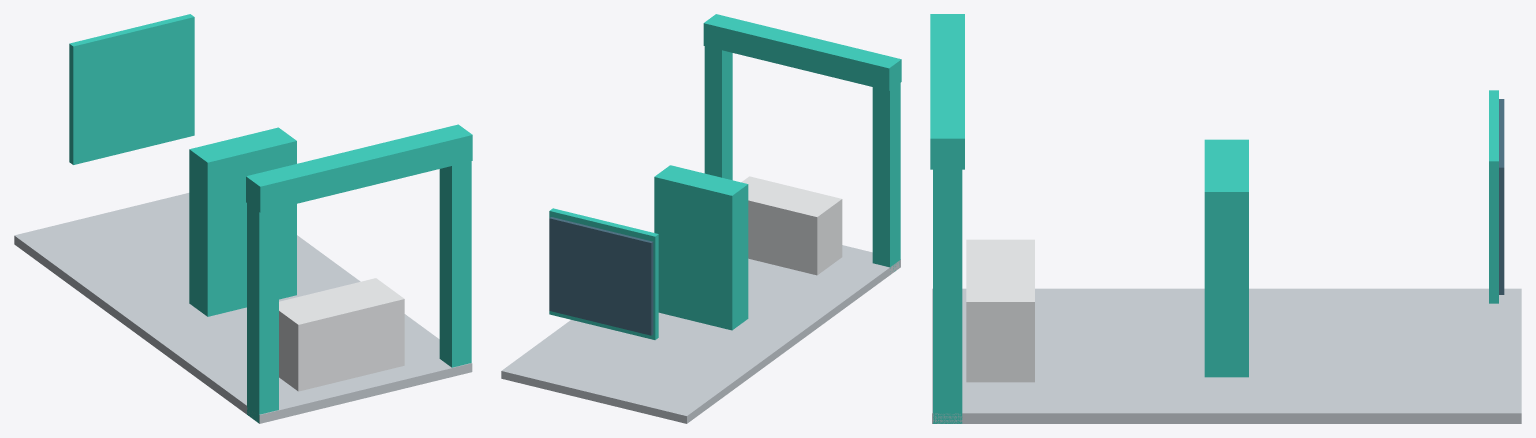
The picture shows the model from 3 angles, left to right: view 1: azimuth 30°, elevation 25°; view 2: azimuth 150°, elevation 25°; view 3: azimuth 270°, elevation 25°; orthographic projection. The views are drawn at different scales.
Parts seen in each view (by area): view 1: Exhibition Booth Concept; view 2: Exhibition Booth Concept; view 3: Exhibition Booth Concept.
Boxes of the visible parts, x1,y1,x2,y2 form: Exhibition Booth Concept: [14, 14, 472, 423]; Exhibition Booth Concept: [501, 14, 901, 423]; Exhibition Booth Concept: [930, 14, 1521, 423].
Size of the model in its own units: 3 by 3.2 by 6.02.
